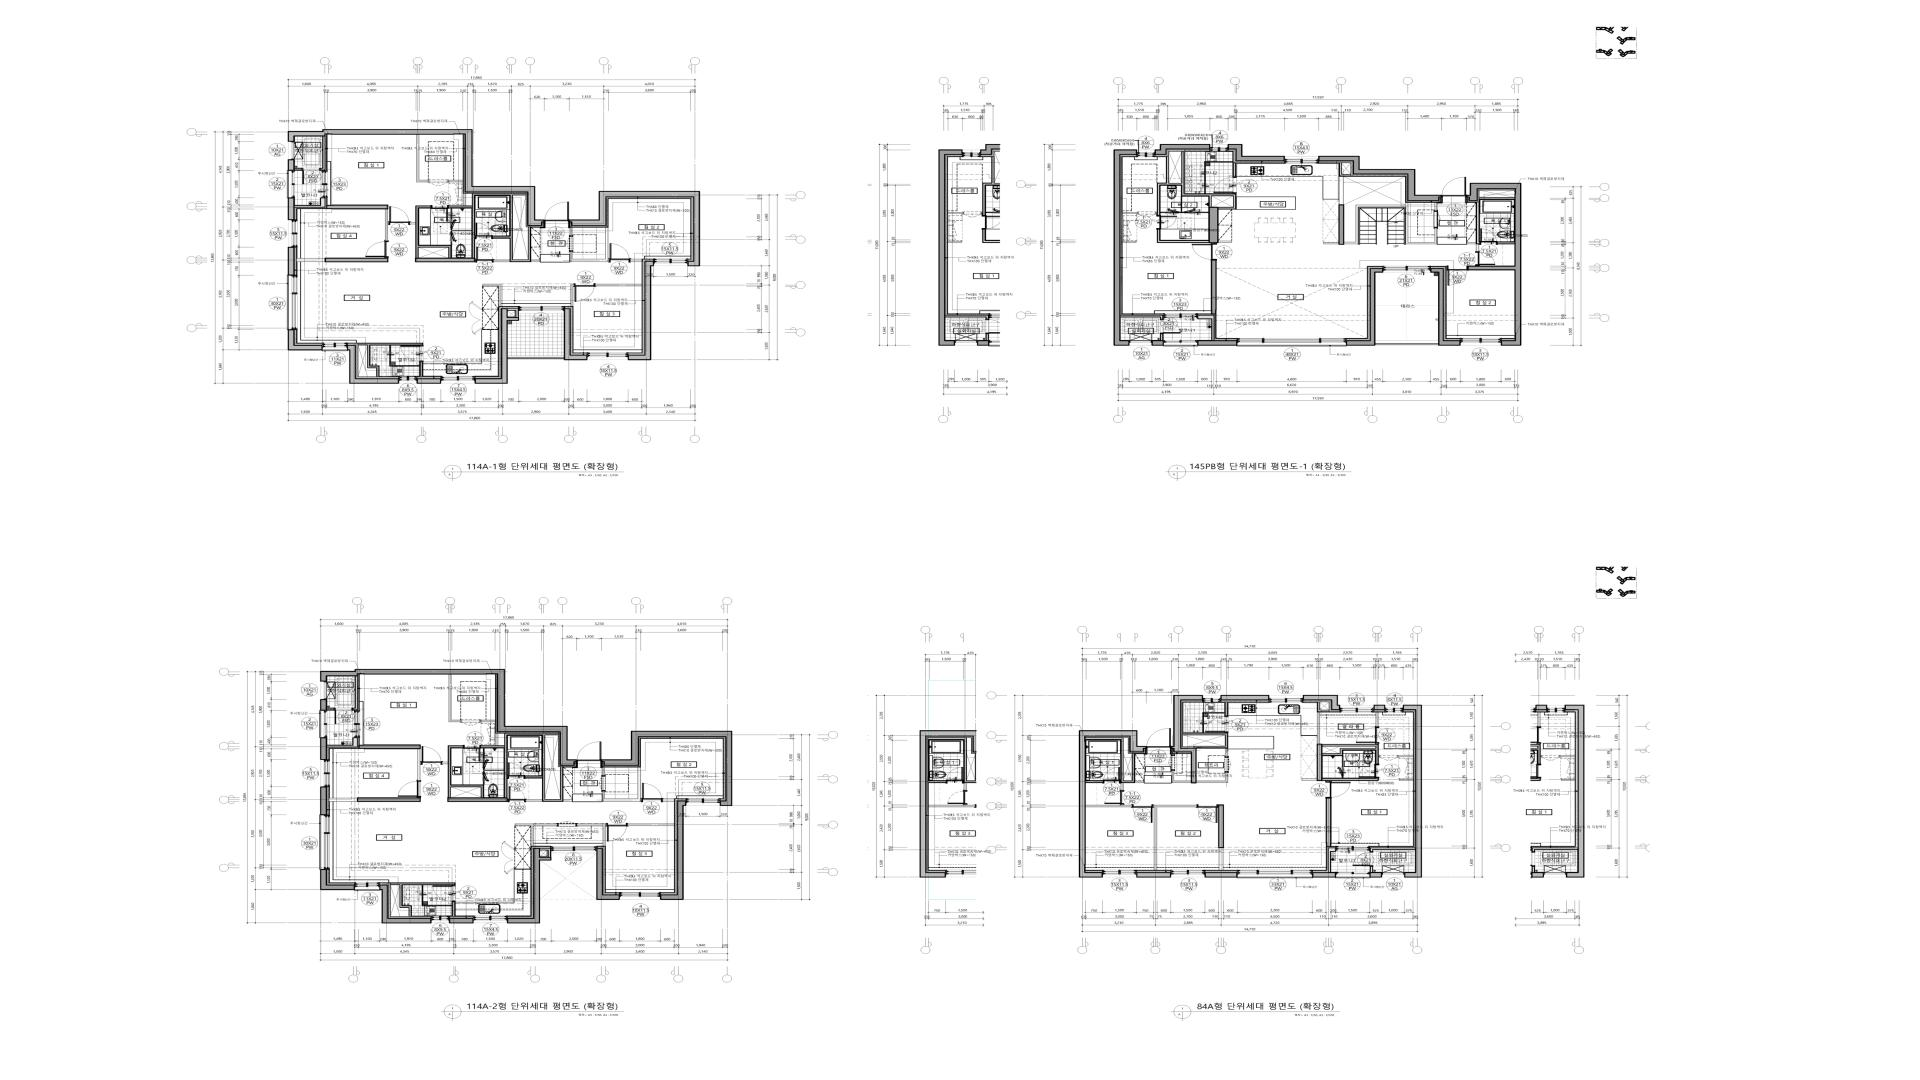door: (576, 741, 601, 767), (1146, 728, 1171, 754), (543, 203, 570, 228), (1441, 177, 1466, 203), (1447, 265, 1469, 286), (1192, 243, 1217, 261), (1325, 781, 1350, 799), (608, 243, 630, 262), (605, 823, 628, 841), (1356, 727, 1379, 744), (1205, 716, 1229, 733), (400, 345, 423, 363), (421, 746, 442, 765), (641, 783, 662, 802), (1197, 804, 1218, 823), (1133, 804, 1154, 823), (388, 207, 409, 225), (574, 284, 595, 302), (433, 885, 455, 902), (398, 781, 421, 798), (365, 241, 389, 257), (1213, 178, 1237, 194), (463, 745, 481, 762), (475, 223, 493, 240), (302, 167, 320, 185), (1156, 215, 1178, 229), (1358, 764, 1379, 778), (1104, 790, 1125, 804), (508, 762, 525, 779), (1481, 228, 1498, 245), (508, 786, 526, 802), (475, 247, 493, 262), (1102, 767, 1121, 783), (1476, 252, 1495, 266), (1160, 319, 1180, 334), (335, 708, 352, 724), (431, 206, 448, 222), (429, 179, 448, 186), (460, 720, 481, 725), (1225, 757, 1232, 773), (558, 822, 576, 827), (1379, 756, 1398, 761), (1138, 212, 1156, 218)
wall: (320, 669, 576, 766), (287, 129, 543, 225), (1079, 731, 1146, 878), (601, 731, 732, 806), (570, 191, 700, 266), (1466, 183, 1522, 345), (481, 733, 572, 802), (448, 194, 539, 262), (1319, 156, 1441, 200), (1156, 152, 1237, 215), (1113, 149, 1137, 345), (1345, 203, 1437, 244), (506, 848, 551, 923), (475, 309, 520, 384), (1403, 704, 1422, 878), (1085, 737, 1143, 790), (1346, 268, 1383, 345), (1154, 804, 1197, 870), (1171, 695, 1203, 783), (659, 800, 686, 901), (628, 261, 654, 360), (1431, 268, 1461, 345), (409, 206, 452, 257), (442, 745, 484, 798), (390, 882, 455, 916), (359, 343, 423, 377), (347, 345, 400, 384), (380, 885, 431, 923), (603, 767, 641, 802), (570, 228, 608, 262), (596, 848, 620, 901), (564, 309, 588, 360), (1323, 744, 1379, 764), (1183, 733, 1228, 757), (514, 824, 558, 847), (1228, 144, 1284, 161), (320, 869, 355, 890), (287, 330, 322, 351), (1156, 229, 1208, 243), (576, 824, 605, 847), (1468, 202, 1480, 252), (1155, 144, 1211, 154), (1303, 695, 1340, 711), (448, 674, 460, 723), (417, 135, 429, 182), (1317, 702, 1329, 744), (1197, 315, 1215, 340), (483, 284, 501, 306), (1208, 207, 1218, 243), (1211, 261, 1217, 314), (326, 204, 388, 210), (1197, 773, 1228, 783), (327, 737, 357, 748), (1325, 799, 1332, 847), (415, 257, 475, 262), (294, 198, 324, 207), (1221, 695, 1270, 700), (357, 798, 421, 802), (324, 258, 388, 262), (359, 745, 421, 749), (1172, 770, 1191, 783), (447, 798, 508, 802), (1218, 804, 1224, 848), (1137, 872, 1171, 878), (508, 356, 563, 360), (1205, 872, 1238, 878), (1338, 204, 1344, 245), (1197, 340, 1237, 345), (1317, 744, 1323, 781), (320, 786, 327, 815), (287, 247, 294, 276), (1328, 848, 1336, 872), (352, 676, 357, 711), (1370, 848, 1415, 852), (320, 137, 326, 170), (1121, 315, 1163, 319), (1312, 872, 1336, 878), (1323, 778, 1379, 781), (320, 737, 327, 760), (287, 198, 294, 220), (1338, 177, 1344, 204), (448, 918, 473, 923), (417, 378, 442, 384), (1085, 804, 1133, 807), (595, 284, 642, 286), (1218, 848, 1224, 870), (328, 798, 357, 802), (297, 258, 324, 262), (541, 848, 551, 857), (508, 309, 518, 318), (1480, 198, 1515, 200), (418, 749, 421, 781), (385, 210, 388, 241), (1370, 872, 1382, 878), (1374, 704, 1386, 711), (320, 699, 327, 711), (287, 160, 294, 171), (451, 902, 456, 916), (1151, 340, 1164, 345), (1233, 162, 1237, 178), (628, 824, 674, 825), (571, 284, 574, 306), (1375, 712, 1379, 727), (419, 363, 423, 377), (630, 258, 642, 262), (1085, 781, 1102, 783), (1498, 241, 1515, 244), (481, 720, 496, 723), (1225, 702, 1228, 716), (496, 733, 498, 745), (662, 799, 674, 802), (295, 167, 302, 171), (1302, 779, 1317, 781), (603, 767, 605, 775), (1398, 756, 1414, 757), (1435, 203, 1437, 211), (1122, 212, 1138, 214), (570, 228, 572, 236), (1399, 779, 1414, 781), (1324, 243, 1338, 244), (1122, 241, 1137, 243), (448, 181, 463, 182), (327, 708, 334, 711), (1218, 241, 1232, 243), (1160, 334, 1163, 340), (1370, 866, 1373, 872)
window: (1237, 338, 1346, 347), (286, 276, 298, 330), (1238, 870, 1312, 878), (319, 815, 330, 869), (518, 306, 564, 314), (587, 352, 628, 360), (620, 891, 659, 899), (1461, 338, 1501, 345), (551, 847, 596, 853), (686, 798, 720, 806), (473, 915, 506, 923), (1270, 695, 1303, 703), (654, 258, 687, 266), (442, 376, 475, 384), (1383, 266, 1431, 272), (320, 760, 330, 786), (289, 220, 298, 247), (286, 171, 295, 198), (355, 882, 380, 891), (1336, 872, 1370, 878), (1171, 870, 1205, 877), (1102, 870, 1137, 877), (1340, 705, 1374, 712), (1284, 157, 1319, 164), (1164, 340, 1197, 347), (319, 711, 327, 737), (352, 711, 360, 737), (323, 343, 347, 351), (1336, 845, 1370, 851), (320, 171, 327, 198), (1203, 695, 1221, 703), (431, 915, 448, 923), (1163, 314, 1197, 318), (400, 376, 417, 384), (1137, 150, 1155, 157), (320, 682, 327, 699), (1386, 705, 1403, 712), (1211, 145, 1228, 152), (1130, 340, 1151, 345), (289, 142, 294, 160), (1382, 873, 1404, 877)
